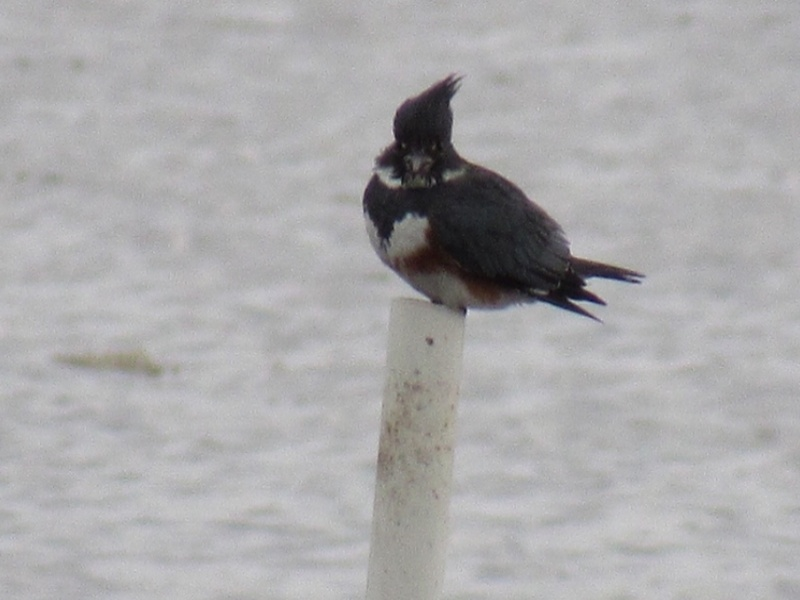kingfisher: (354, 70, 651, 329)
